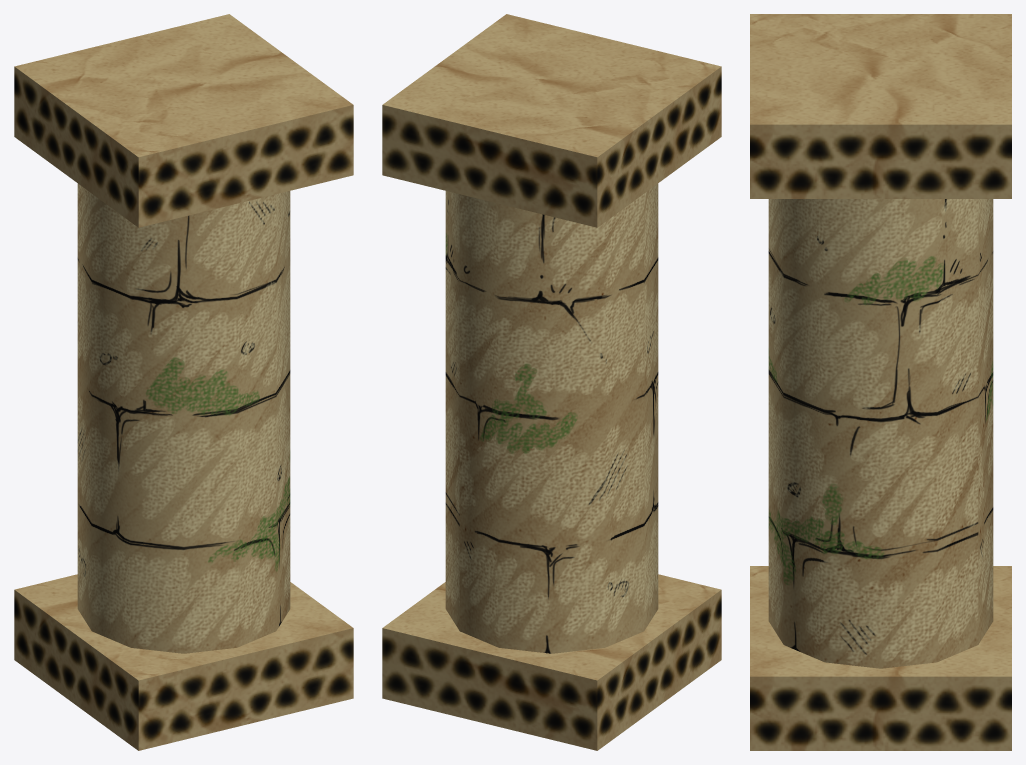
Rendered from PROP_PILLAR_01.FBX.
3 renders of one model, left to right at view 1: azimuth 30°, elevation 25°; view 2: azimuth 150°, elevation 25°; view 3: azimuth 270°, elevation 25°, orthographic. The views are drawn at different scales.
Parts seen in each view (by area): view 1: PROP_PILLAR_01; view 2: PROP_PILLAR_01; view 3: PROP_PILLAR_01.
Boxes of the visible parts, bbox=[...] form: PROP_PILLAR_01: bbox=[14, 14, 353, 750]; PROP_PILLAR_01: bbox=[382, 14, 721, 750]; PROP_PILLAR_01: bbox=[750, 14, 1011, 750].
Size of the model in its own units: 160 by 421 by 160.
Materials: 1 (1 with a texture image).
